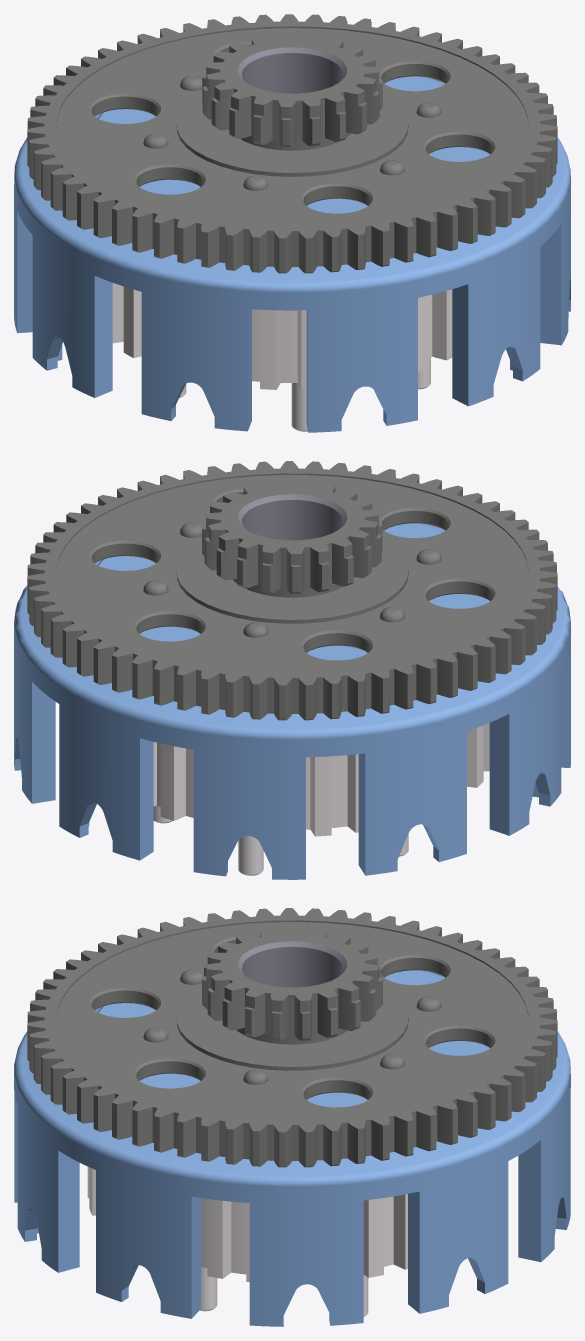
The model's file is Clutch_step3.fbx.
The picture shows the model from 3 angles, top to bottom: view 1: azimuth 30°, elevation 25°; view 2: azimuth 150°, elevation 25°; view 3: azimuth 270°, elevation 25°; orthographic projection.
Parts seen in each view (by area): view 1: Clutch center; view 2: Clutch center; view 3: Clutch center.
Boxes of the visible parts, box(x1,y1,x2,y2) form: Clutch center: box(14, 14, 570, 432); Clutch center: box(14, 461, 570, 879); Clutch center: box(14, 908, 570, 1326).
Bounding box in the file's own units: 13.2 × 7.9 × 13.2.
